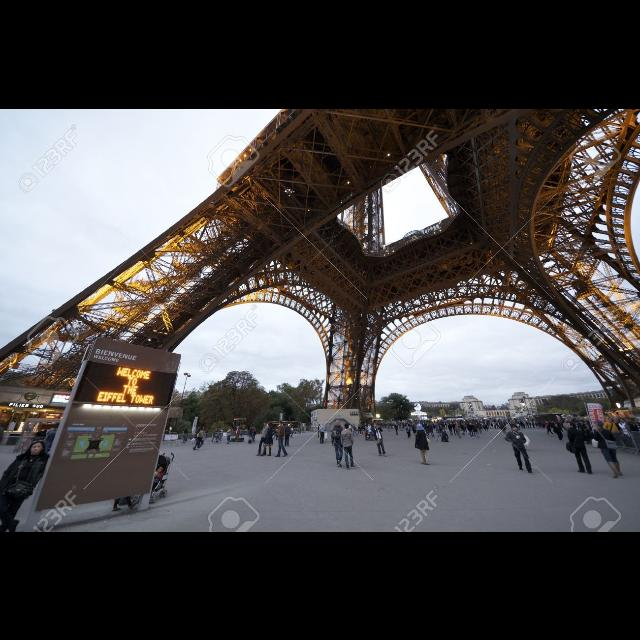head: (30, 440, 44, 454), (118, 444, 130, 456), (510, 424, 518, 432), (595, 420, 603, 428), (157, 466, 165, 472), (336, 420, 342, 426), (344, 423, 350, 429), (570, 422, 576, 428), (279, 420, 283, 426), (373, 422, 377, 428), (418, 424, 422, 430), (51, 425, 55, 429), (198, 426, 202, 430), (264, 421, 268, 425), (269, 424, 273, 428), (237, 426, 240, 429), (44, 430, 48, 432), (322, 424, 326, 426), (414, 424, 416, 428), (202, 428, 205, 430), (230, 427, 232, 429), (286, 424, 288, 426), (276, 426, 278, 428), (292, 426, 294, 428), (353, 424, 355, 426), (360, 425, 362, 427), (407, 428, 409, 430), (398, 425, 398, 427)
person: (110, 442, 142, 512), (591, 419, 625, 479), (504, 422, 536, 476), (564, 420, 596, 474), (330, 419, 346, 468), (339, 422, 355, 470), (414, 423, 432, 465), (140, 464, 167, 491), (370, 422, 388, 458), (25, 429, 49, 455), (254, 420, 270, 456), (274, 419, 288, 457), (260, 423, 274, 457), (43, 425, 59, 449), (192, 426, 204, 452), (195, 426, 208, 450), (284, 422, 292, 448), (234, 426, 242, 444), (319, 424, 326, 444), (412, 424, 420, 438), (226, 426, 232, 444), (273, 426, 279, 440), (352, 422, 358, 436), (394, 424, 400, 436), (405, 426, 411, 438), (290, 426, 294, 438), (358, 424, 362, 434)
